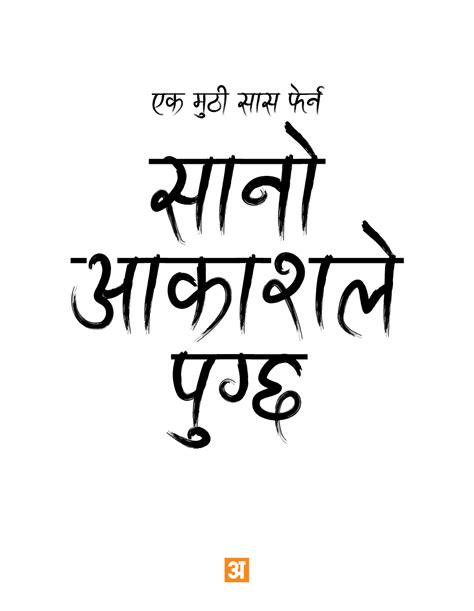text: (70, 247, 405, 341), (147, 121, 325, 244), (165, 349, 309, 449), (286, 79, 326, 115), (192, 83, 231, 119), (234, 89, 281, 116), (147, 88, 188, 117)
